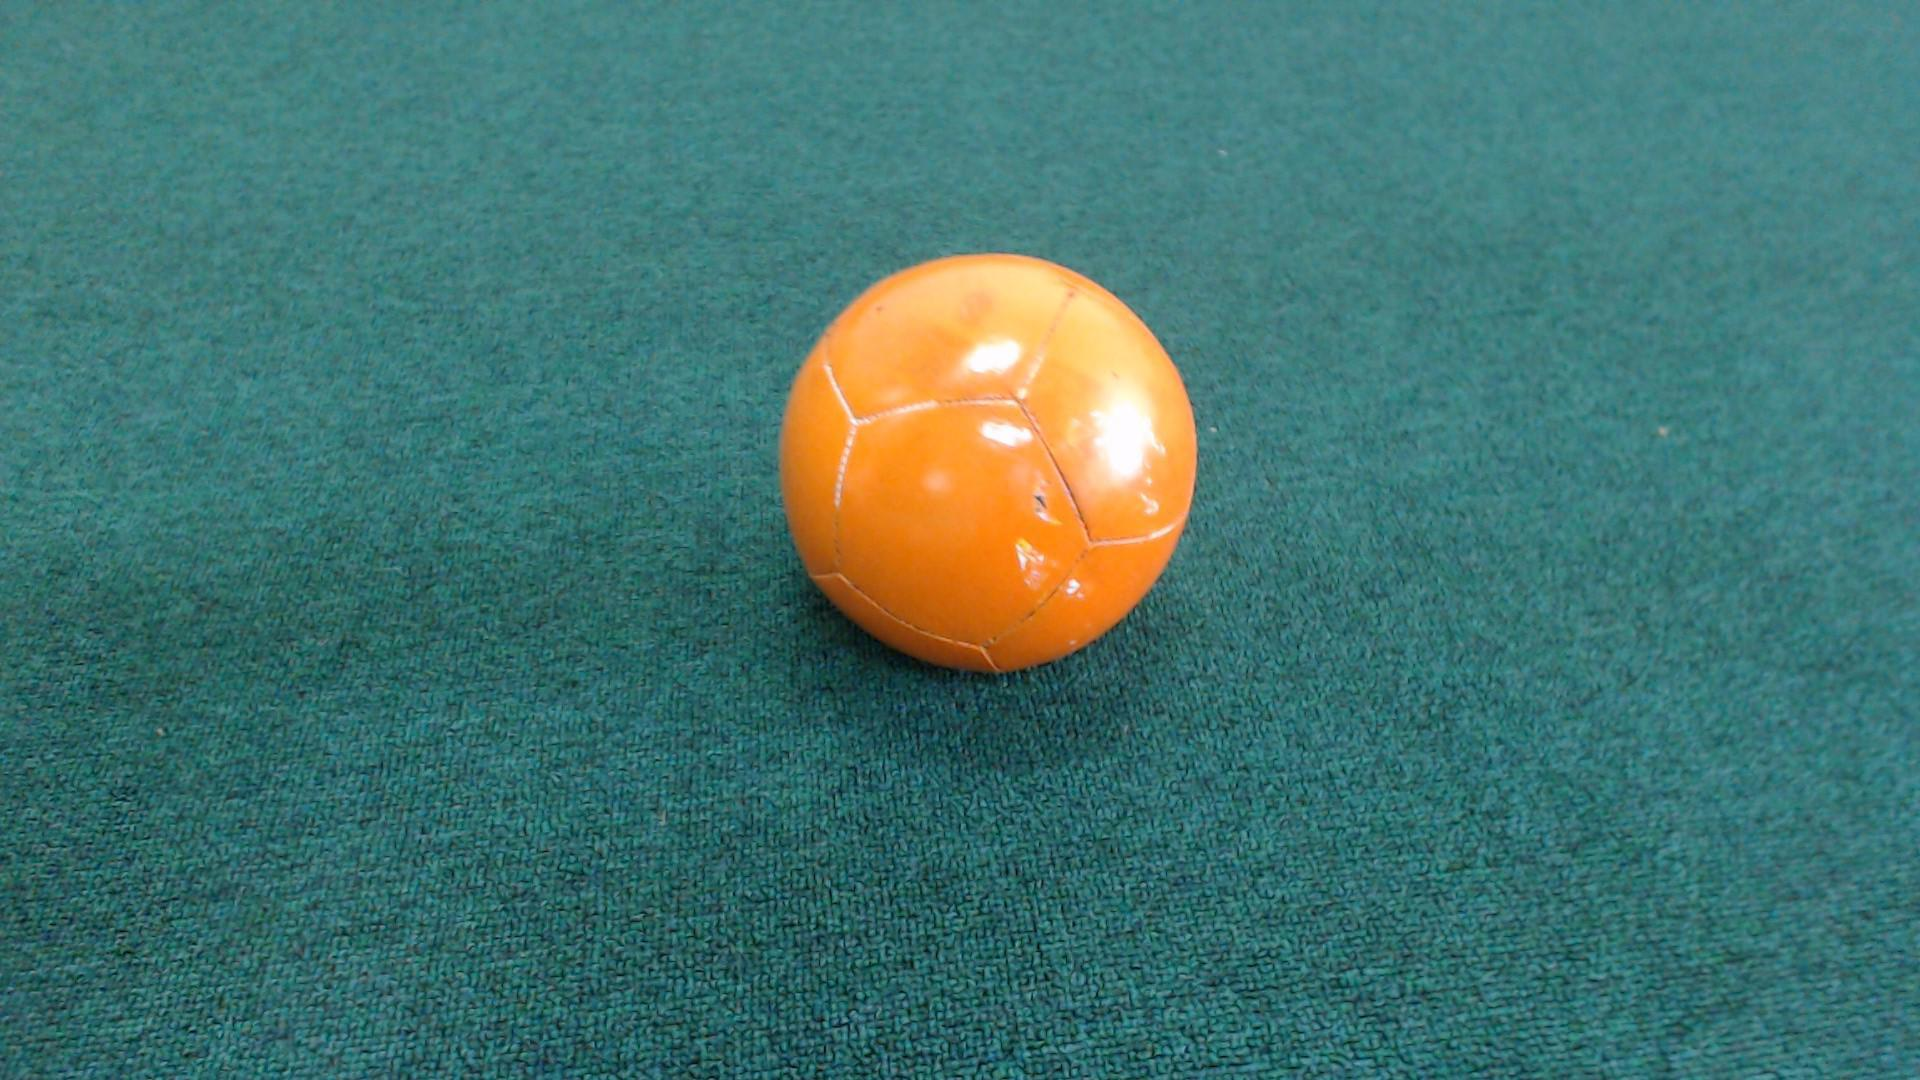bola: (741, 219, 1225, 724)
